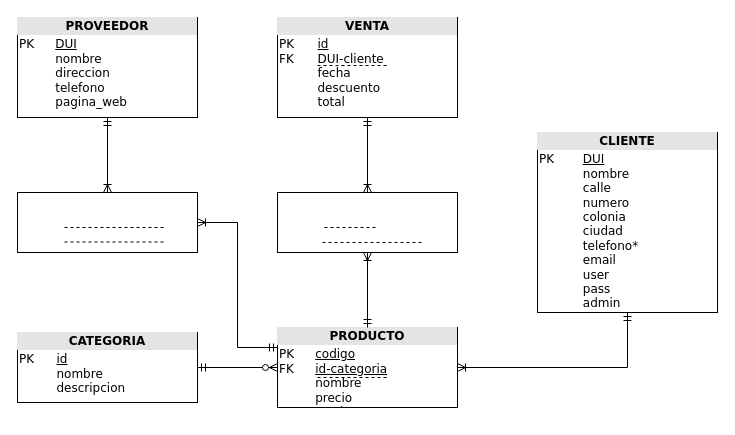
Image size: 735x435. Some labels were removed from this diagram. Here are the shapes that lost their labels. From the top down, the centre of each, then its label:
At point (107, 222): "PROVEEDORXPRODUCTO PKFK PKFK DUI-proveedor codigo-producto".
At point (367, 222): "VENTAXPRODUCTO PKFK PKFK id-venta codigo-producto".
